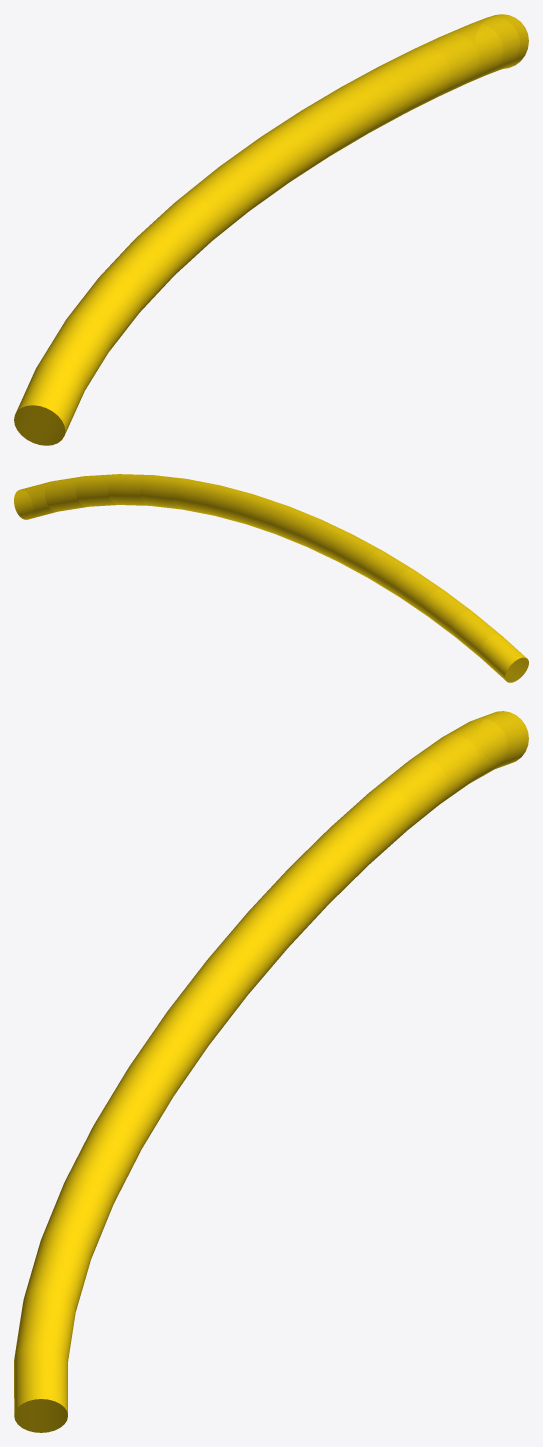
The model's file is Event_420094457_track_51.fbx.
The picture shows the model from 3 angles, top to bottom: view 1: azimuth 90°, elevation 25°; view 2: azimuth 150°, elevation 25°; view 3: azimuth 270°, elevation 25°; orthographic projection. The views are drawn at different scales.
Parts seen in each view (by area): view 1: Model; view 2: Model; view 3: Model.
Part boxes in pixels (x1,y1,x2,y2): Model: [14, 14, 528, 445]; Model: [14, 474, 528, 682]; Model: [14, 711, 528, 1432].
Size of the model in its own units: 0.95 by 0.1977 by 0.3825.
